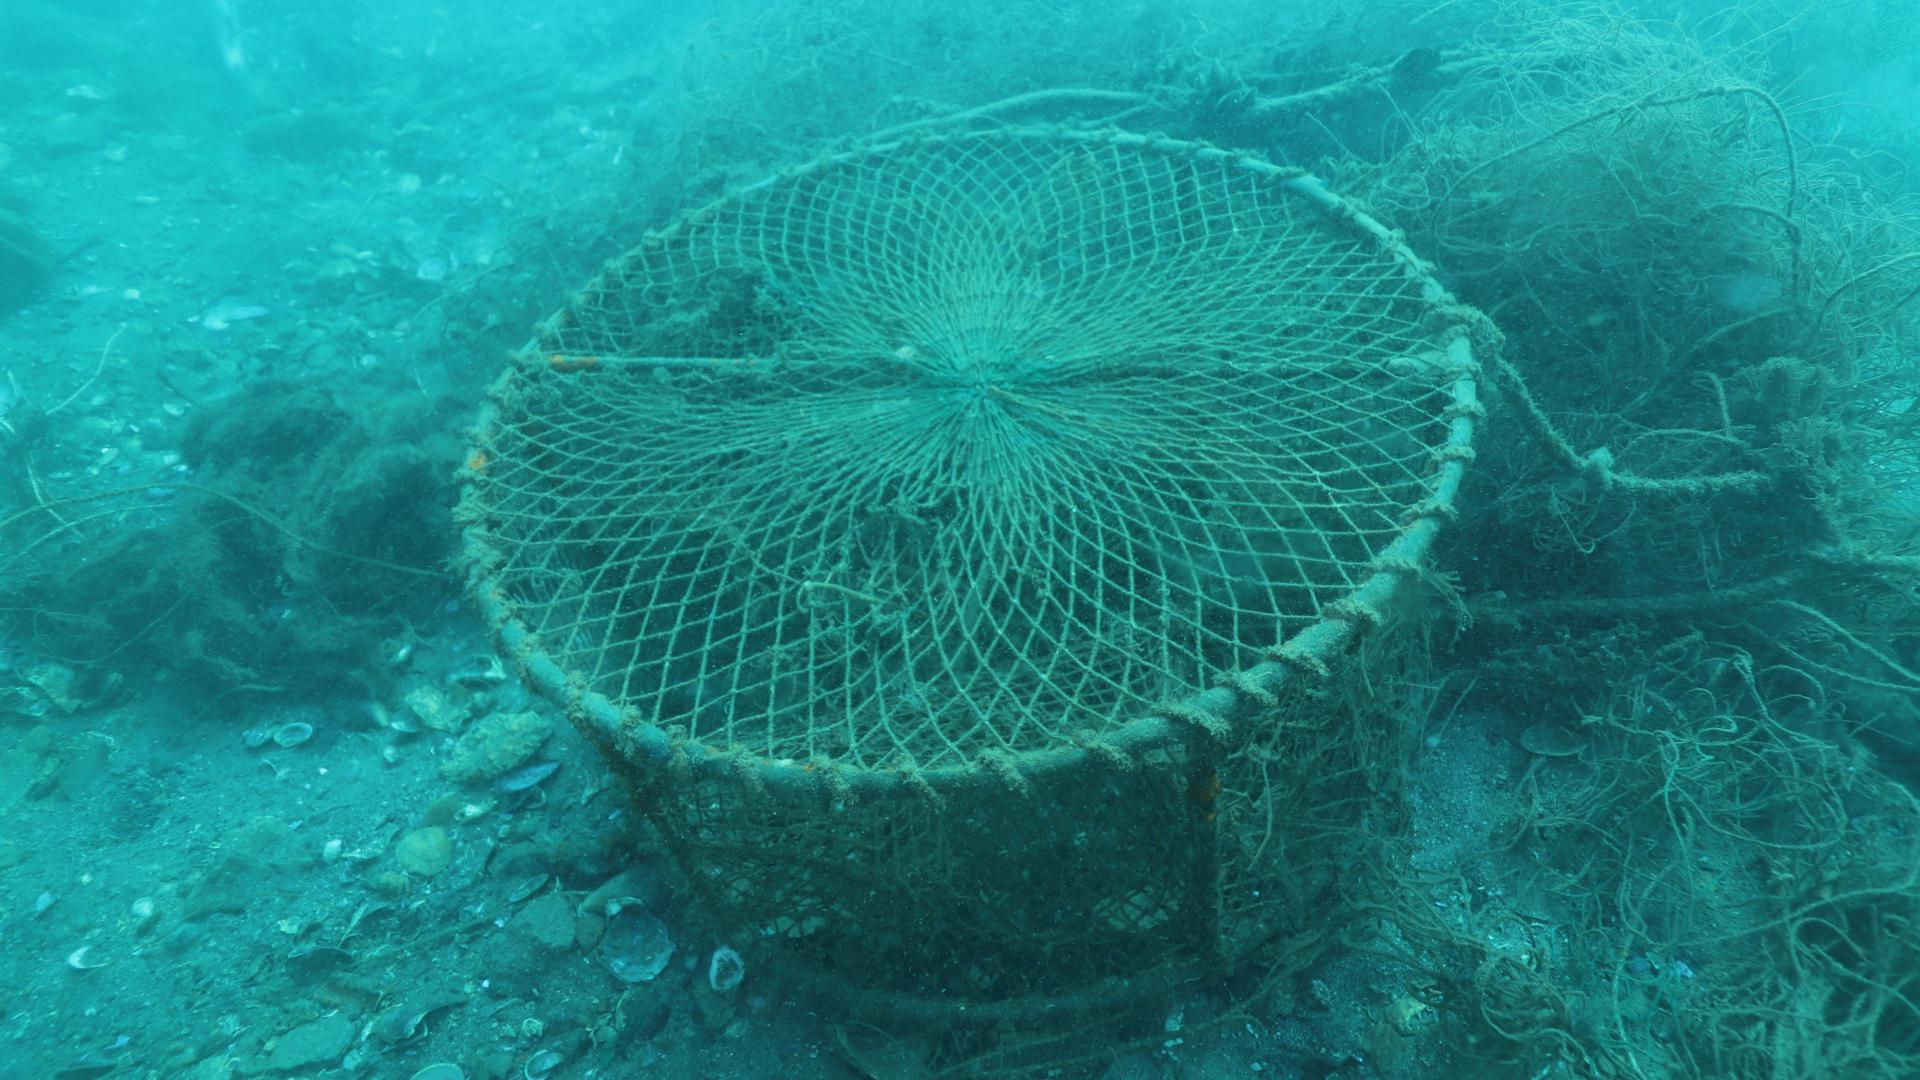circular fish trap: (452, 127, 1472, 1015)
